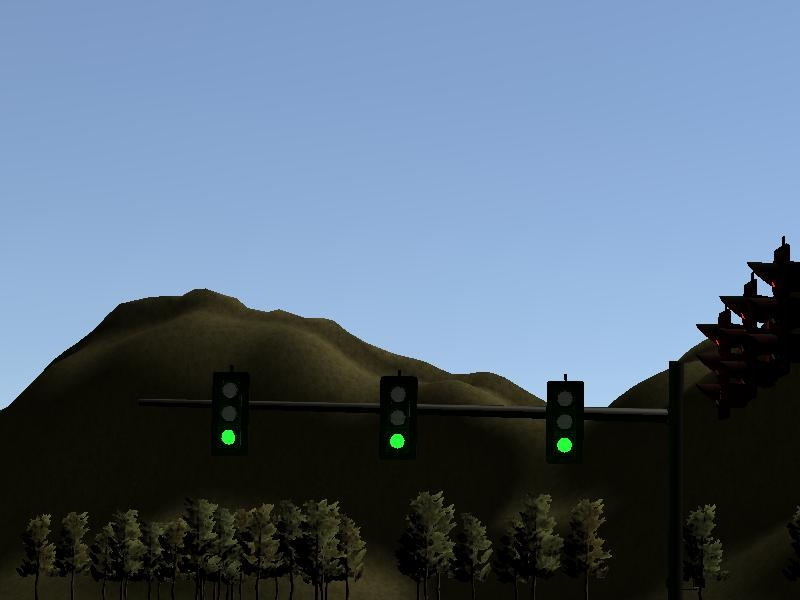GREEN: (543, 378, 589, 476), (376, 374, 418, 462), (210, 373, 249, 461)
